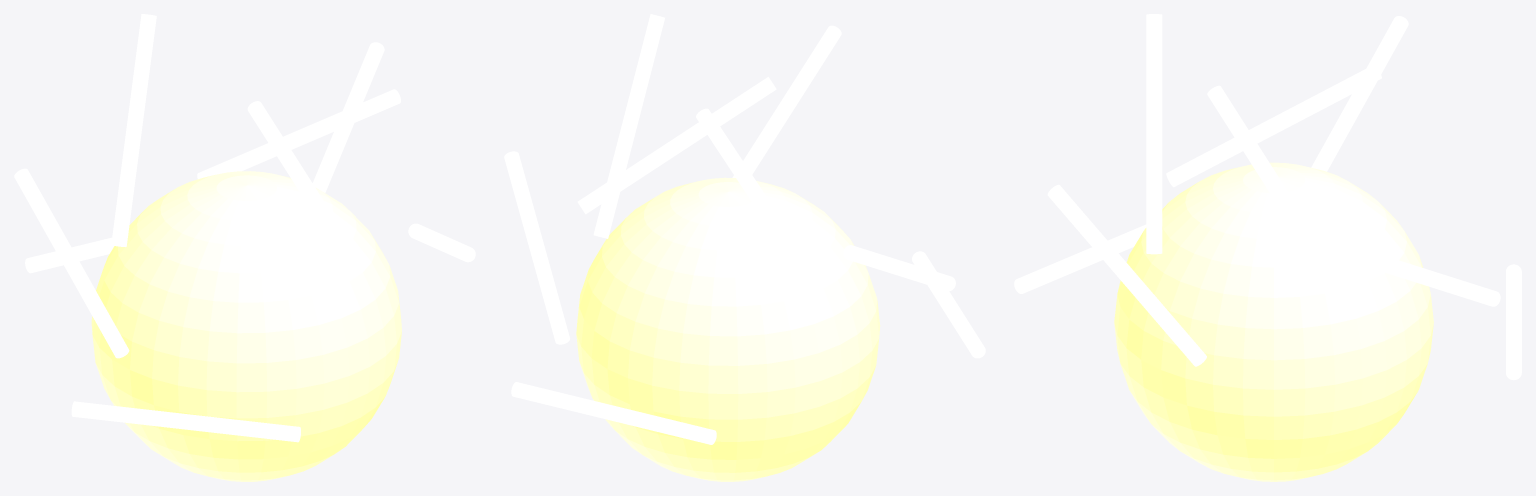
The model's file is lightning_orb.glb.
The picture shows the model from 3 angles, left to right: view 1: azimuth 30°, elevation 25°; view 2: azimuth 150°, elevation 25°; view 3: azimuth 270°, elevation 25°; orthographic projection. The views are drawn at different scales.
Visible parts, largest first — view 1: Orb, Arc3, Arc5, Arc4, Arc6, Arc1, Arc0, Arc2, Arc7; view 2: Orb, Arc0, Arc2, Arc3, Arc1, Arc7, Arc6, Arc4, Arc5; view 3: Orb, Arc6, Arc7, Arc0, Arc4, Arc3, Arc1, Arc5, Arc2.
Part boxes in pixels (x1,y1,x2,y2): Orb: [91, 171, 401, 481]; Arc3: [111, 14, 156, 246]; Arc5: [71, 401, 300, 442]; Arc4: [14, 168, 129, 358]; Arc6: [247, 101, 362, 270]; Arc1: [197, 89, 400, 179]; Arc0: [312, 42, 384, 192]; Arc2: [25, 237, 114, 273]; Arc7: [408, 223, 475, 262]; Orb: [576, 177, 880, 481]; Arc0: [593, 14, 664, 238]; Arc2: [511, 382, 716, 444]; Arc3: [696, 108, 819, 285]; Arc1: [504, 151, 569, 344]; Arc7: [577, 77, 776, 214]; Arc6: [732, 25, 841, 177]; Arc4: [843, 245, 955, 291]; Arc5: [912, 251, 985, 358]; Orb: [1114, 162, 1433, 481]; Arc6: [1146, 14, 1162, 254]; Arc7: [1047, 184, 1206, 366]; Arc0: [1207, 85, 1340, 283]; Arc4: [1166, 69, 1381, 187]; Arc3: [1311, 16, 1408, 171]; Arc1: [1341, 244, 1500, 306]; Arc5: [1014, 224, 1146, 293]; Arc2: [1506, 264, 1521, 380].
Size of the model in its own units: 0.2435 by 0.2379 by 0.2541.
